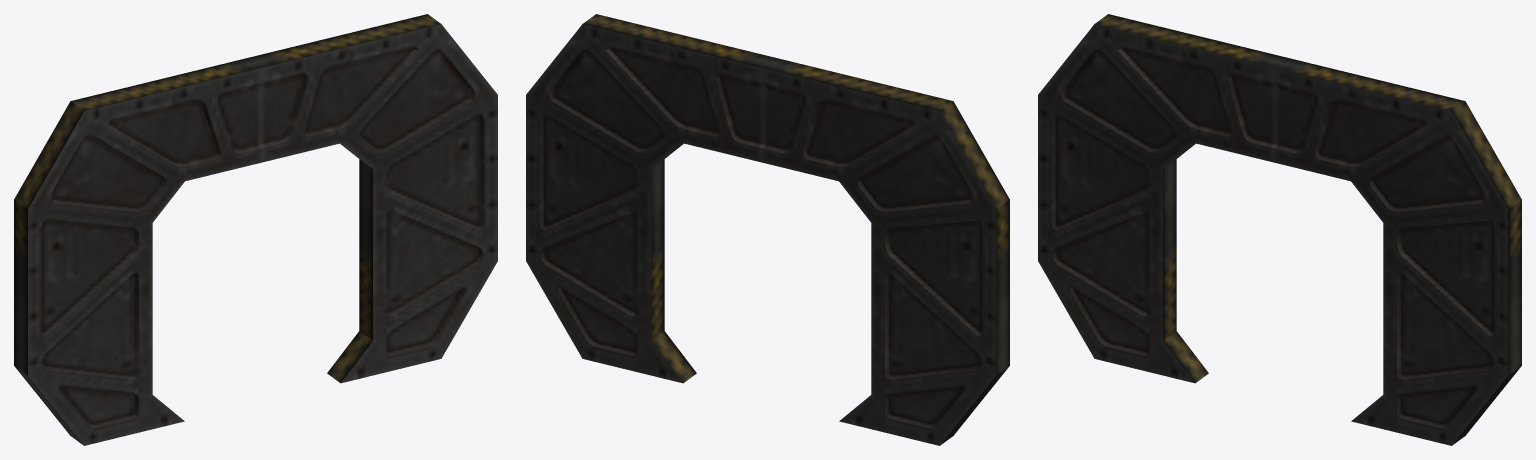
File: Bulkhead_1.FBX
The picture shows the model from 3 angles, left to right: view 1: azimuth 30°, elevation 25°; view 2: azimuth 150°, elevation 25°; view 3: azimuth 330°, elevation 25°; orthographic projection.
Parts seen in each view (by area): view 1: Bulkhead_1; view 2: Bulkhead_1; view 3: Bulkhead_1.
Part boxes in pixels (left/top/right/bottom): Bulkhead_1: left=14, top=14, right=497, bottom=445; Bulkhead_1: left=526, top=14, right=1009, bottom=445; Bulkhead_1: left=1038, top=14, right=1521, bottom=445.
Bounding box in the file's own units: 592 × 403 × 30.
